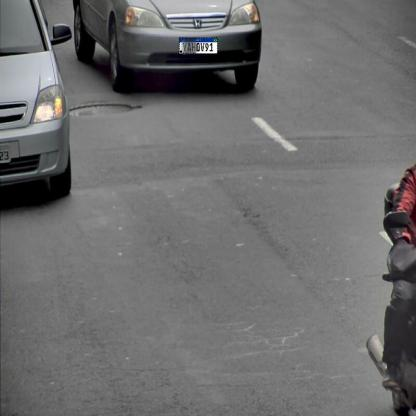PlacaM: (179, 38, 218, 54)
